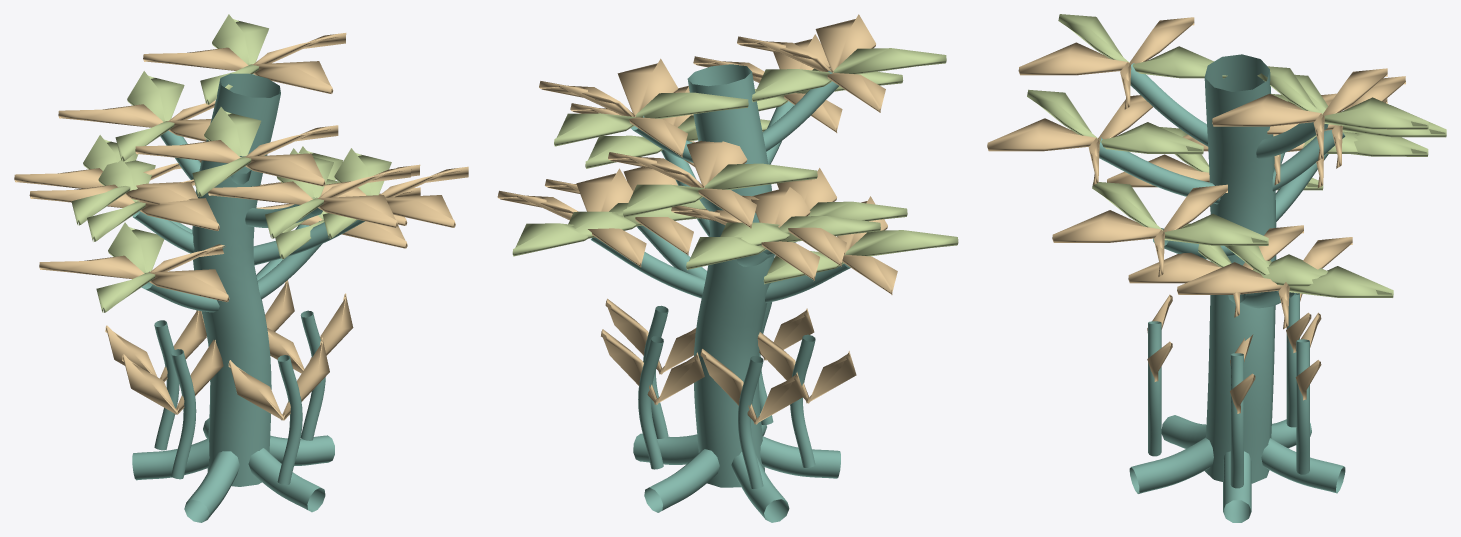
Rendered from bio_canopy_tree_22_near.glb.
The picture shows the model from 3 angles, left to right: view 1: azimuth 30°, elevation 25°; view 2: azimuth 150°, elevation 25°; view 3: azimuth 270°, elevation 25°; orthographic projection. The views are drawn at different scales.
Parts seen in each view (by area): view 1: Buttressed trunk, Broad canopy leaf.035, Broad canopy leaf.010, Broad canopy leaf.015, Broad canopy leaf.020, Broad canopy leaf.005, Broad canopy leaf.045, Broad canopy leaf.036, Broad canopy leaf.025, Broad canopy leaf.021, Broad canopy leaf.031, Broad canopy leaf.030 (+16 smaller); view 2: Buttressed trunk, Broad canopy leaf.035, Broad canopy leaf.015, Broad canopy leaf.030, Broad canopy leaf.016, Broad canopy leaf.031, Broad canopy leaf.036, Broad canopy leaf.040, Broad canopy leaf.005, Broad canopy leaf.006, Broad canopy leaf.021, Broad canopy leaf.046 (+18 smaller); view 3: Buttressed trunk, Broad canopy leaf.035, Broad canopy leaf.015, Broad canopy leaf.025, Broad canopy leaf.010, Broad canopy leaf.026, Broad canopy leaf.011, Broad canopy leaf.040, Broad canopy leaf.016, Broad canopy leaf.036, Broad canopy leaf, Broad canopy leaf.041 (+13 smaller).
Part boxes in pixels (box(x1,y1,x2,y2)): Buttressed trunk: box(132, 73, 364, 522); Broad canopy leaf.035: box(135, 125, 338, 186); Broad canopy leaf.010: box(208, 166, 410, 227); Broad canopy leaf.015: box(143, 33, 346, 93); Broad canopy leaf.020: box(39, 244, 229, 302); Broad canopy leaf.005: box(14, 160, 201, 204); Broad canopy leaf.045: box(29, 179, 219, 230); Broad canopy leaf.036: box(192, 107, 261, 197); Broad canopy leaf.025: box(321, 166, 468, 227); Broad canopy leaf.021: box(96, 222, 164, 312); Broad canopy leaf.031: box(115, 71, 184, 161); Broad canopy leaf.030: box(58, 100, 215, 141); Buttressed trunk: box(590, 64, 850, 522); Broad canopy leaf.035: box(737, 14, 885, 112); Broad canopy leaf.015: box(539, 58, 687, 157); Broad canopy leaf.030: box(608, 140, 756, 228); Broad canopy leaf.016: box(554, 92, 748, 146); Broad canopy leaf.031: box(623, 163, 817, 217); Broad canopy leaf.036: box(752, 48, 946, 101); Broad canopy leaf.040: box(497, 168, 646, 267); Broad canopy leaf.005: box(671, 187, 819, 281); Broad canopy leaf.006: box(686, 216, 880, 269); Broad canopy leaf.021: box(763, 230, 958, 284); Broad canopy leaf.046: box(720, 201, 907, 245); Buttressed trunk: box(1099, 54, 1345, 522); Broad canopy leaf.035: box(1018, 17, 1194, 109); Broad canopy leaf.015: box(1212, 68, 1387, 160); Broad canopy leaf.025: box(1052, 184, 1227, 276); Broad canopy leaf.010: box(987, 95, 1152, 185); Broad canopy leaf.026: box(1092, 182, 1268, 245); Broad canopy leaf.011: box(1027, 89, 1203, 154); Broad canopy leaf.040: box(1177, 237, 1352, 329); Broad canopy leaf.016: box(1257, 66, 1428, 129); Broad canopy leaf.036: box(1058, 14, 1227, 78); Broad canopy leaf: box(1128, 225, 1303, 317); Broad canopy leaf.041: box(1224, 245, 1393, 297).
Size of the model in its own units: 3.06 by 3.05 by 3.05.
